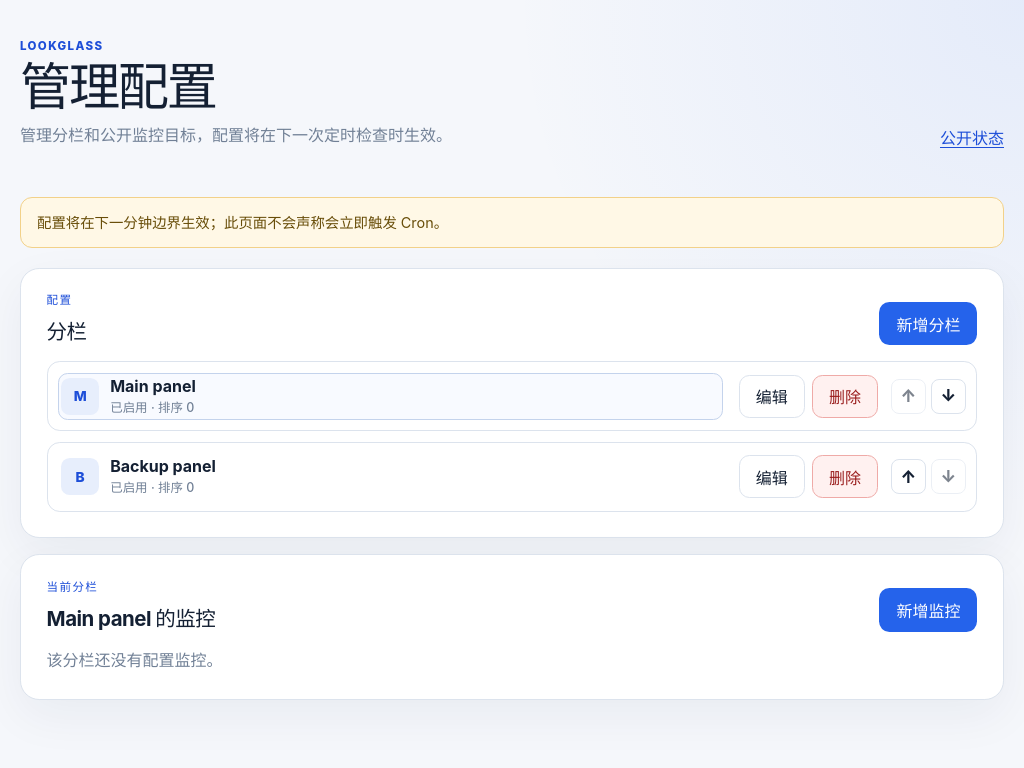
admin UI › reports a failed bulk order write without issuing CRUD order writes
The image size is (1024, 768).
Expected: the button "B Backup panel 已启用 · 排序 0" is shown, [58,453,723,500]
Click the button named "上移 Backup panel": coordinates (908, 477) [891,459,926,494]
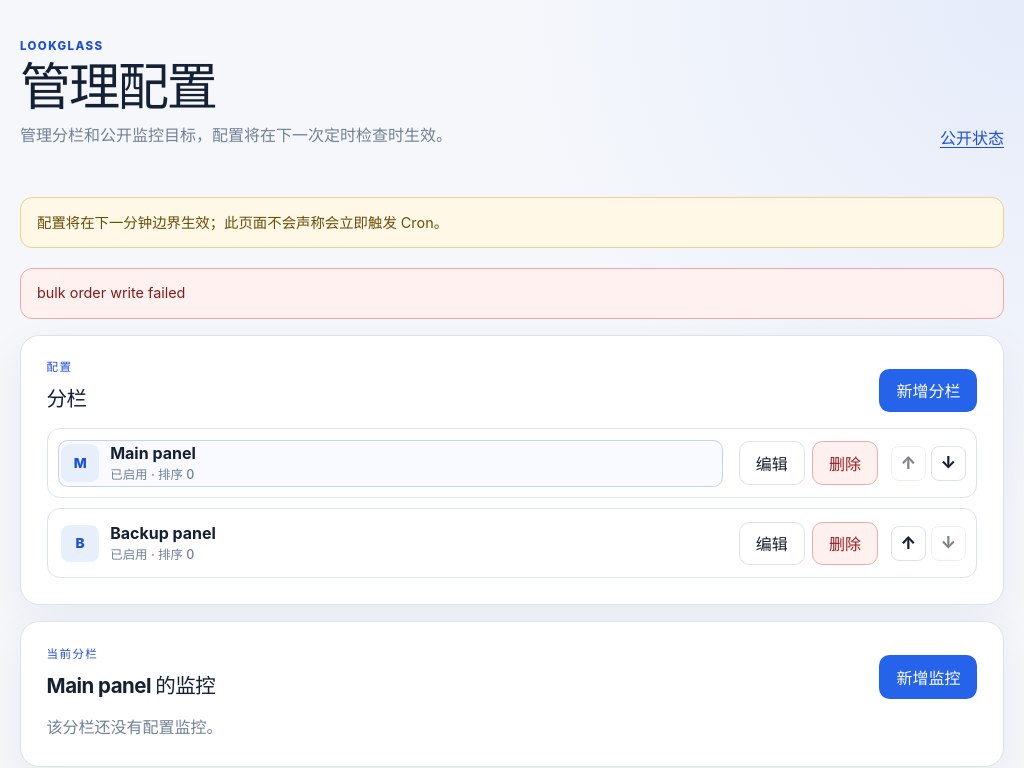
Result: the message "bulk order write failed" is shown at [20,268,1004,319]
